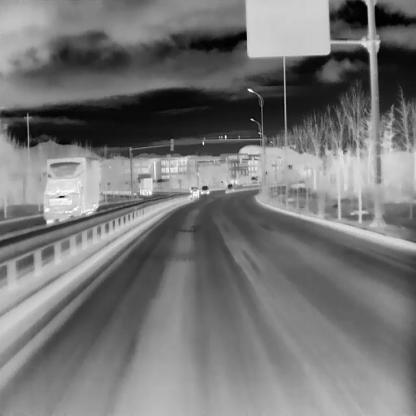car: (187, 186, 198, 196), (200, 184, 209, 192)
truck: (42, 156, 100, 223), (138, 177, 153, 195)
